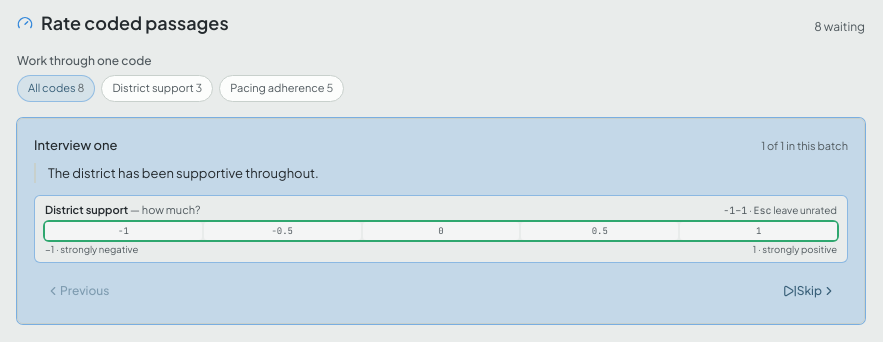
it: RatingSweep — the per-code filter › 🔴 the count does not subtract a rating given on ANOTHER code
Press 1 in the element showing "−1 −0.5 0 0.5 1", box [45, 222, 837, 240]
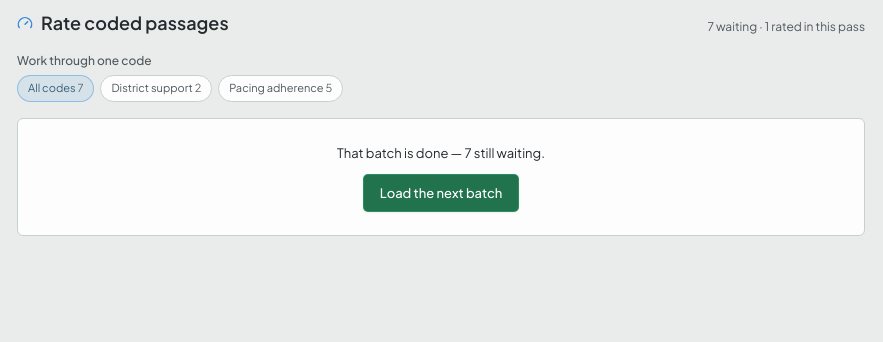
Click the button "Pacing adherence 5" at (281, 88), box [218, 75, 343, 102]
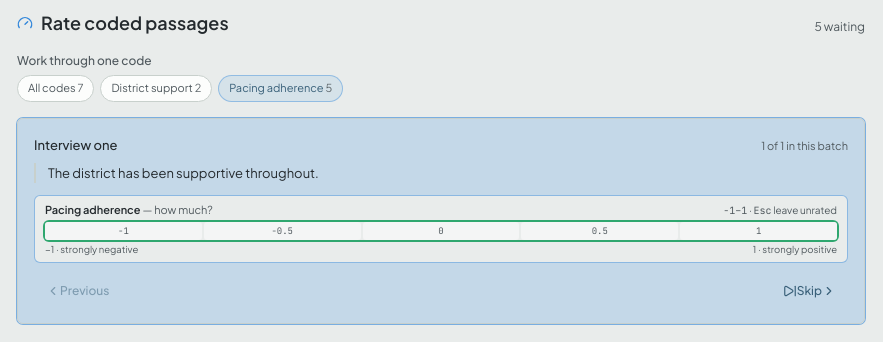
expect the text "5 waiting" is shown: met, box [814, 19, 865, 35]
